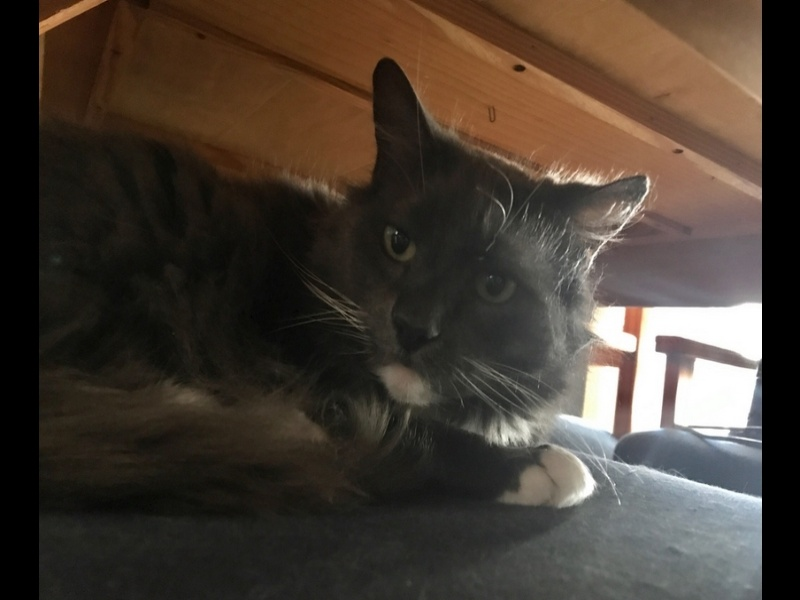cat: (36, 53, 658, 533)
